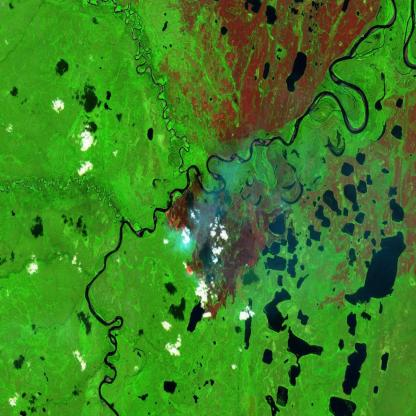fire: (153, 191, 217, 300)
